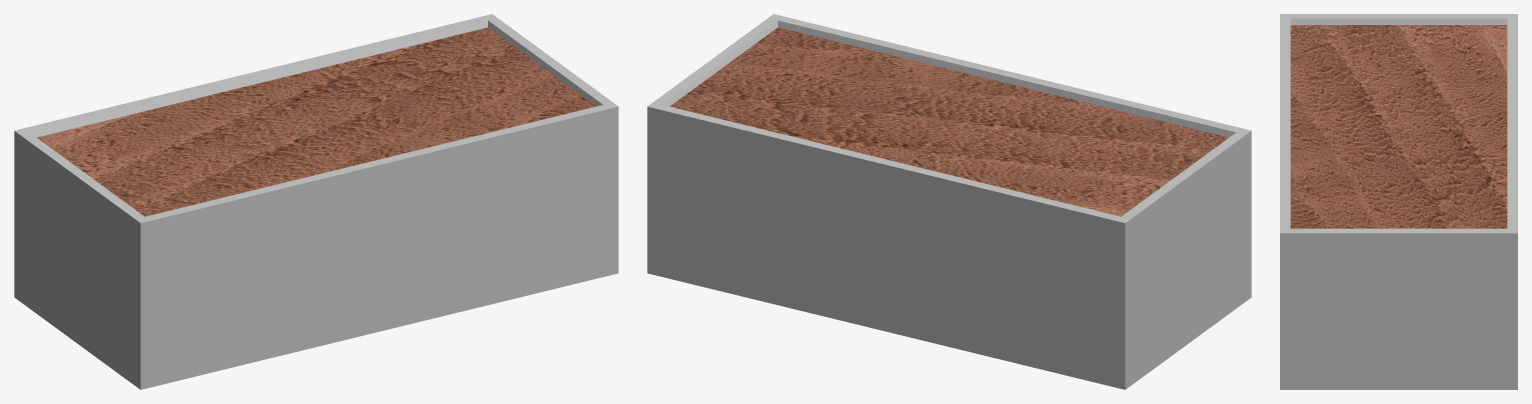
Rendered from ice_cream_tray_chocolate.dae.
3 renders of one model, left to right at view 1: azimuth 30°, elevation 25°; view 2: azimuth 150°, elevation 25°; view 3: azimuth 270°, elevation 25°, orthographic. The views are drawn at different scales.
Parts seen in each view (by area): view 1: SketchUp (×3); view 2: SketchUp (×3); view 3: SketchUp (×3).
Part boxes in pixels (x1=…): SketchUp (×3): x1=14, y1=14, x2=618, y2=389; SketchUp (×3): x1=647, y1=14, x2=1251, y2=389; SketchUp (×3): x1=1280, y1=14, x2=1517, y2=389.
Size of the model in its own units: 14.17 by 6.5 by 4.72.
